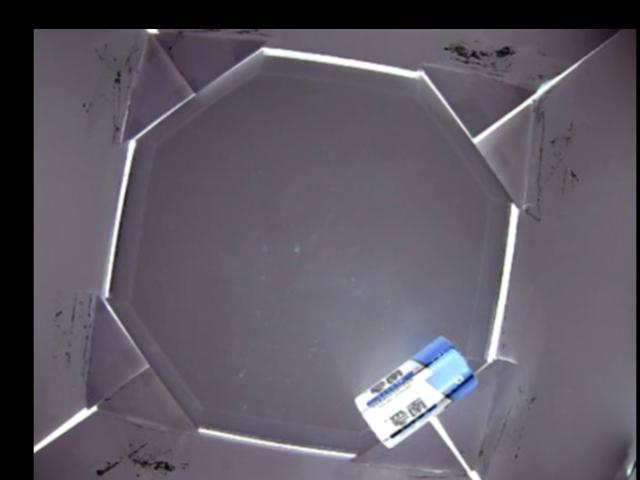Battery: (353, 335, 478, 447)
